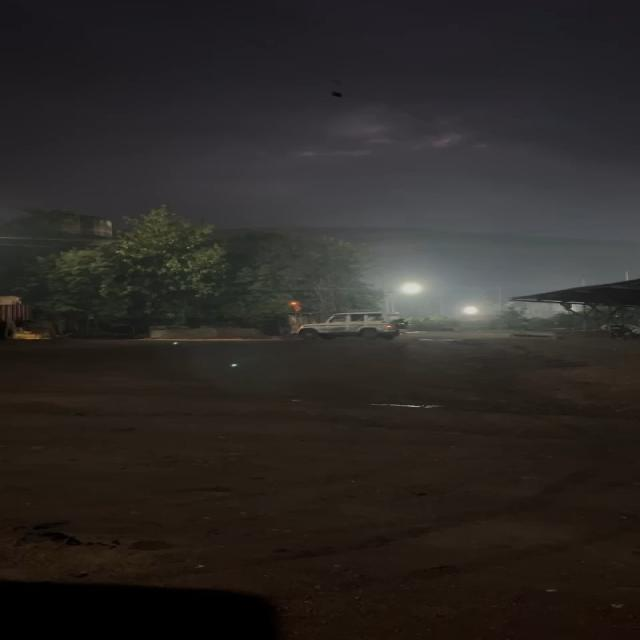light_vehicle: (289, 310, 409, 343)
